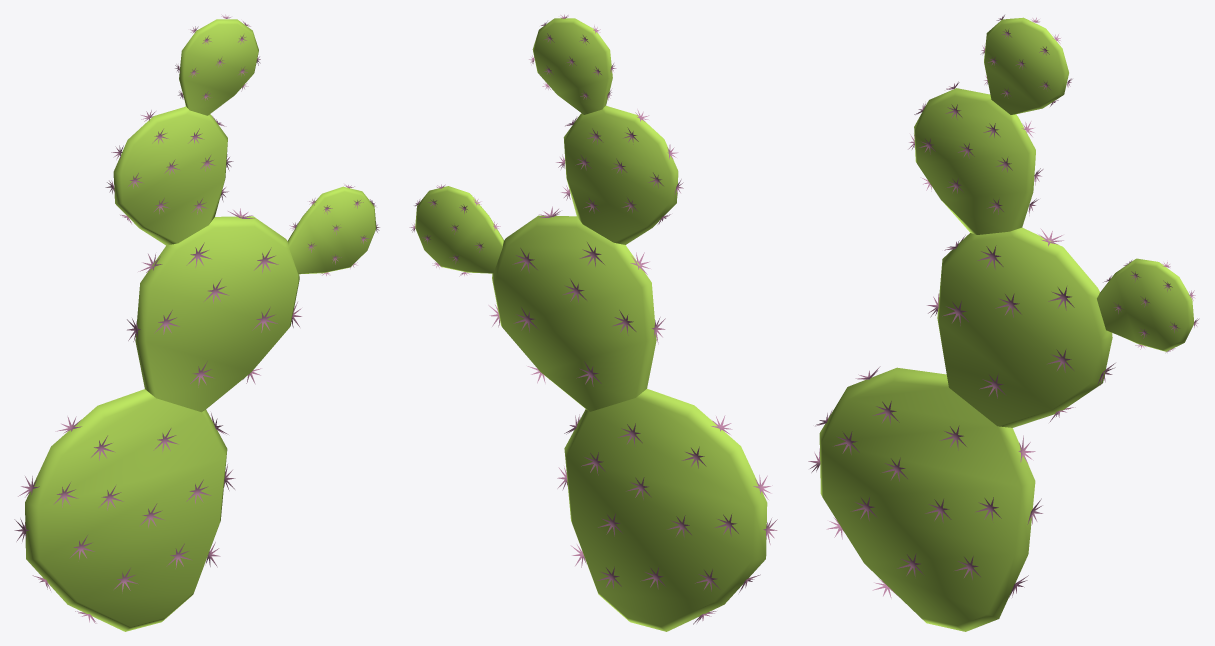
The model's file is SM_Cactus_C.fbx.
The picture shows the model from 3 angles, left to right: view 1: azimuth 30°, elevation 25°; view 2: azimuth 150°, elevation 25°; view 3: azimuth 330°, elevation 25°; orthographic projection. The views are drawn at different scales.
Visible parts, largest first — view 1: SM_Cactus_C; view 2: SM_Cactus_C; view 3: SM_Cactus_C.
Part boxes in pixels (left/top/right/bottom): SM_Cactus_C: left=14, top=14, right=379, bottom=631; SM_Cactus_C: left=409, top=14, right=777, bottom=631; SM_Cactus_C: left=808, top=15, right=1199, bottom=631.
Bounding box in the file's own units: 94.68 × 149 × 7.35.
